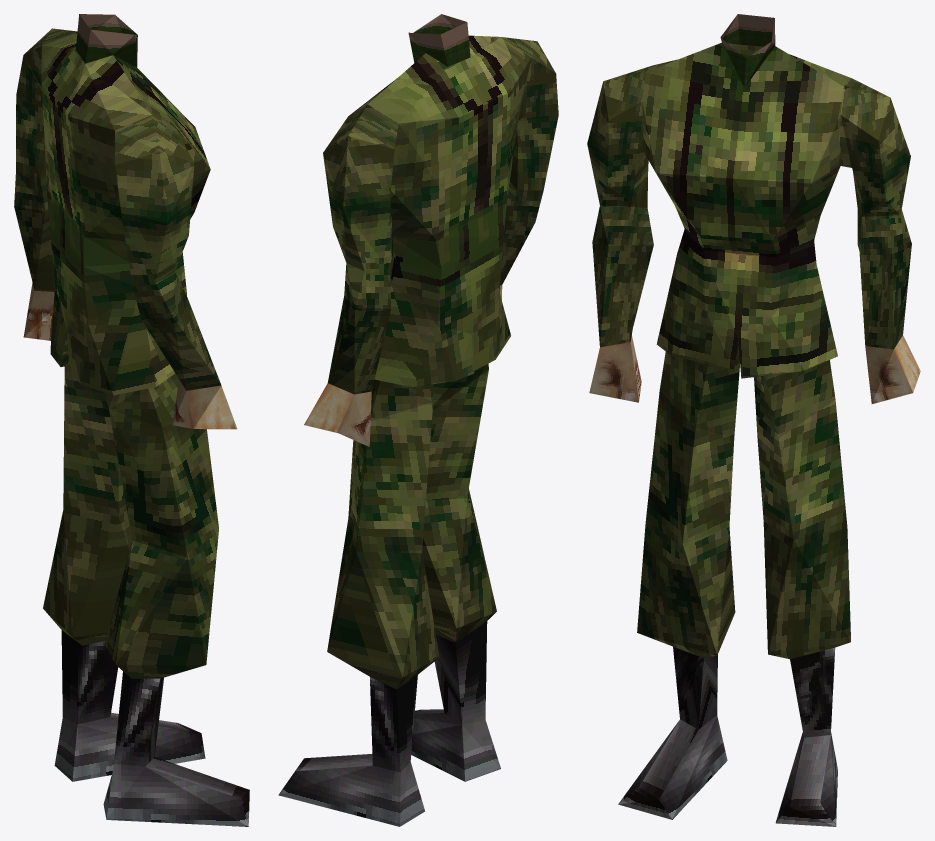
Rendered from primary_415.glb.
3 views of the same model, side by side, from view 1: azimuth 30°, elevation 25°; view 2: azimuth 150°, elevation 25°; view 3: azimuth 270°, elevation 25° (orthographic). The views are drawn at different scales.
Visible parts, largest first — view 1: Object; view 2: Object; view 3: Object.
Boxes of the visible parts, bbox=[...] form: Object: bbox=[14, 14, 249, 826]; Object: bbox=[278, 14, 558, 826]; Object: bbox=[587, 14, 920, 826].
Size of the model in its own units: 0.4229 by 1.83 by 0.7368.
85 materials, 85 textured.
